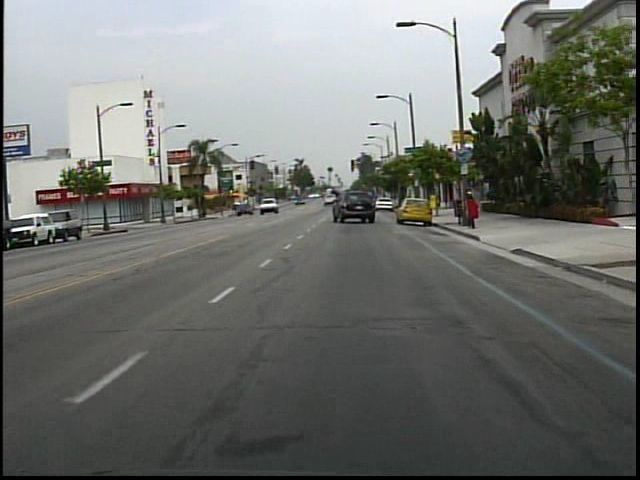person: (461, 186, 482, 218)
